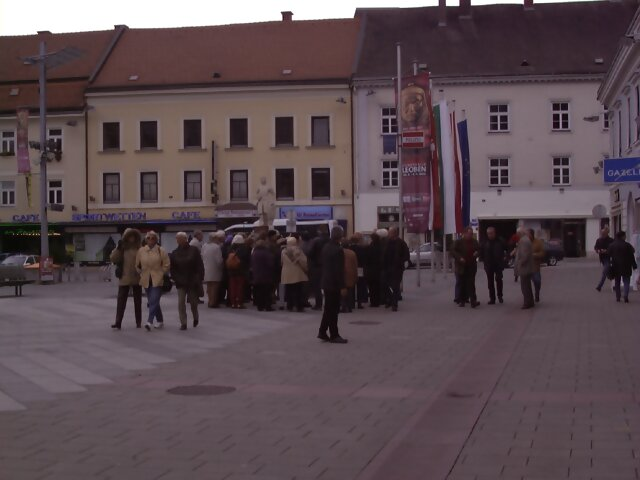person: (316, 223, 351, 344)
